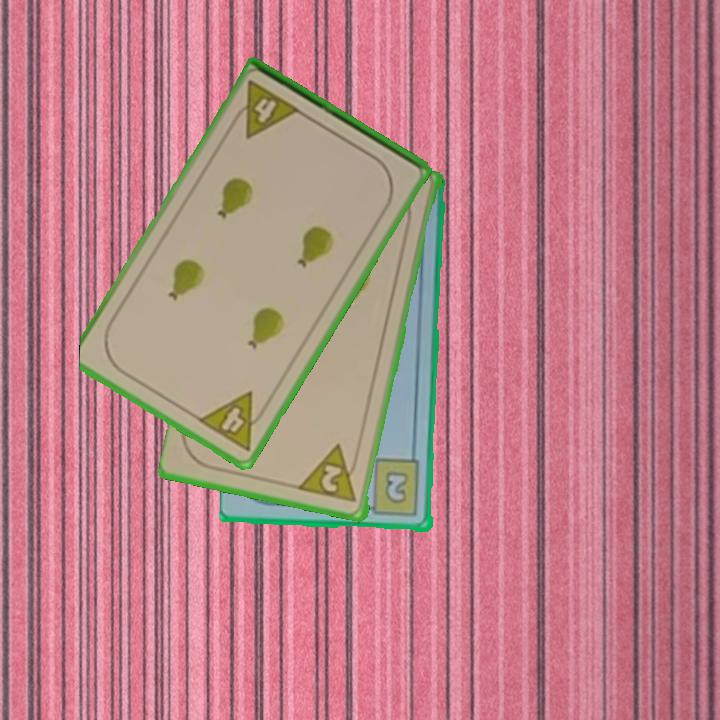2b: (360, 456, 423, 519)
2p: (297, 441, 361, 506)
4p: (194, 388, 273, 454), (226, 76, 304, 142)
